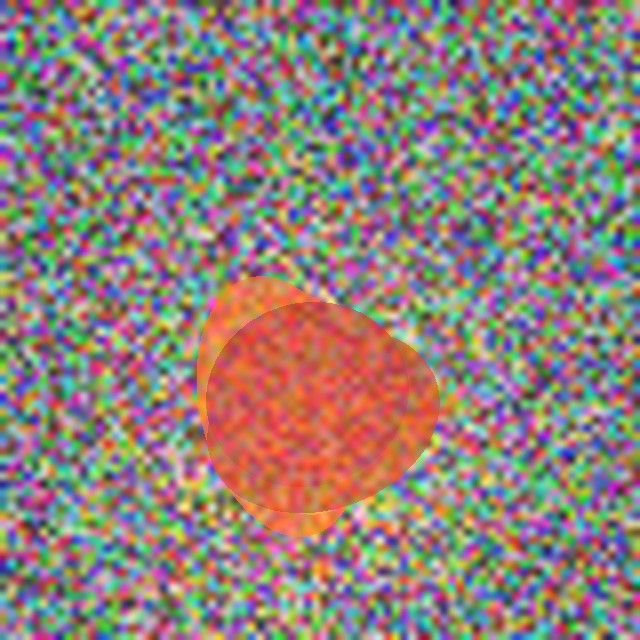fire: (242, 311, 364, 539)
